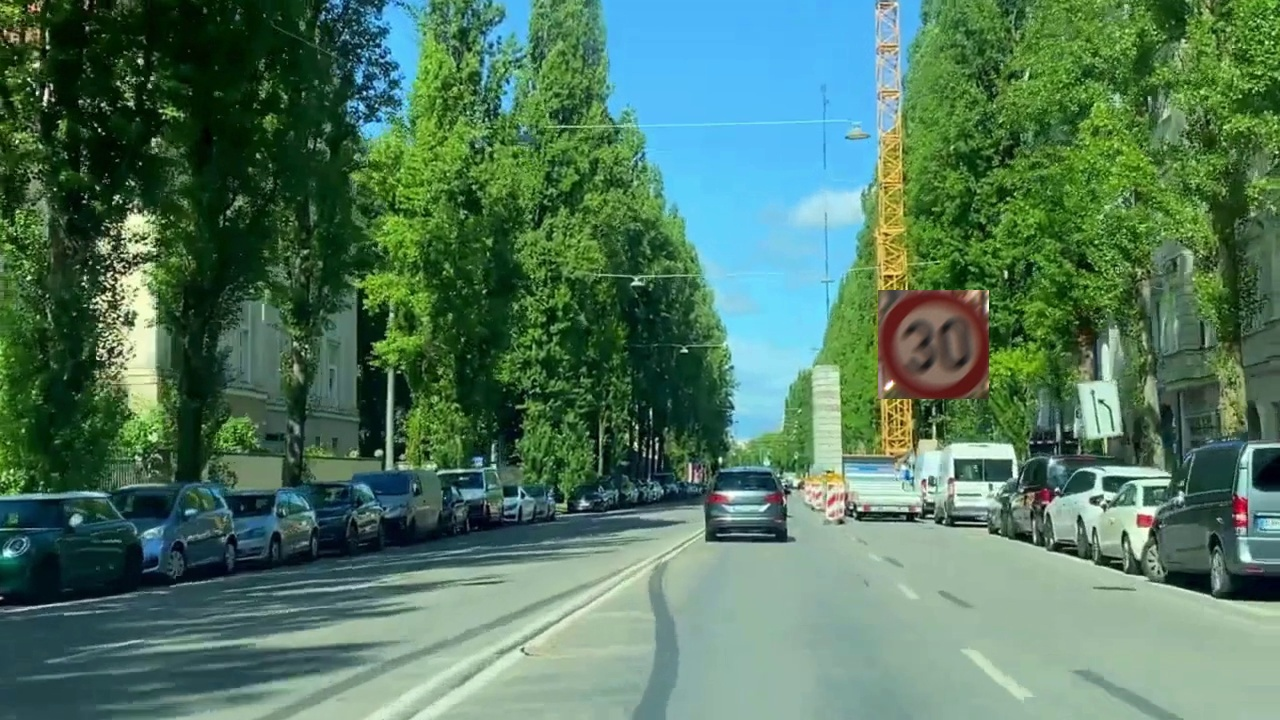Speed 30: (878, 290, 989, 399)
